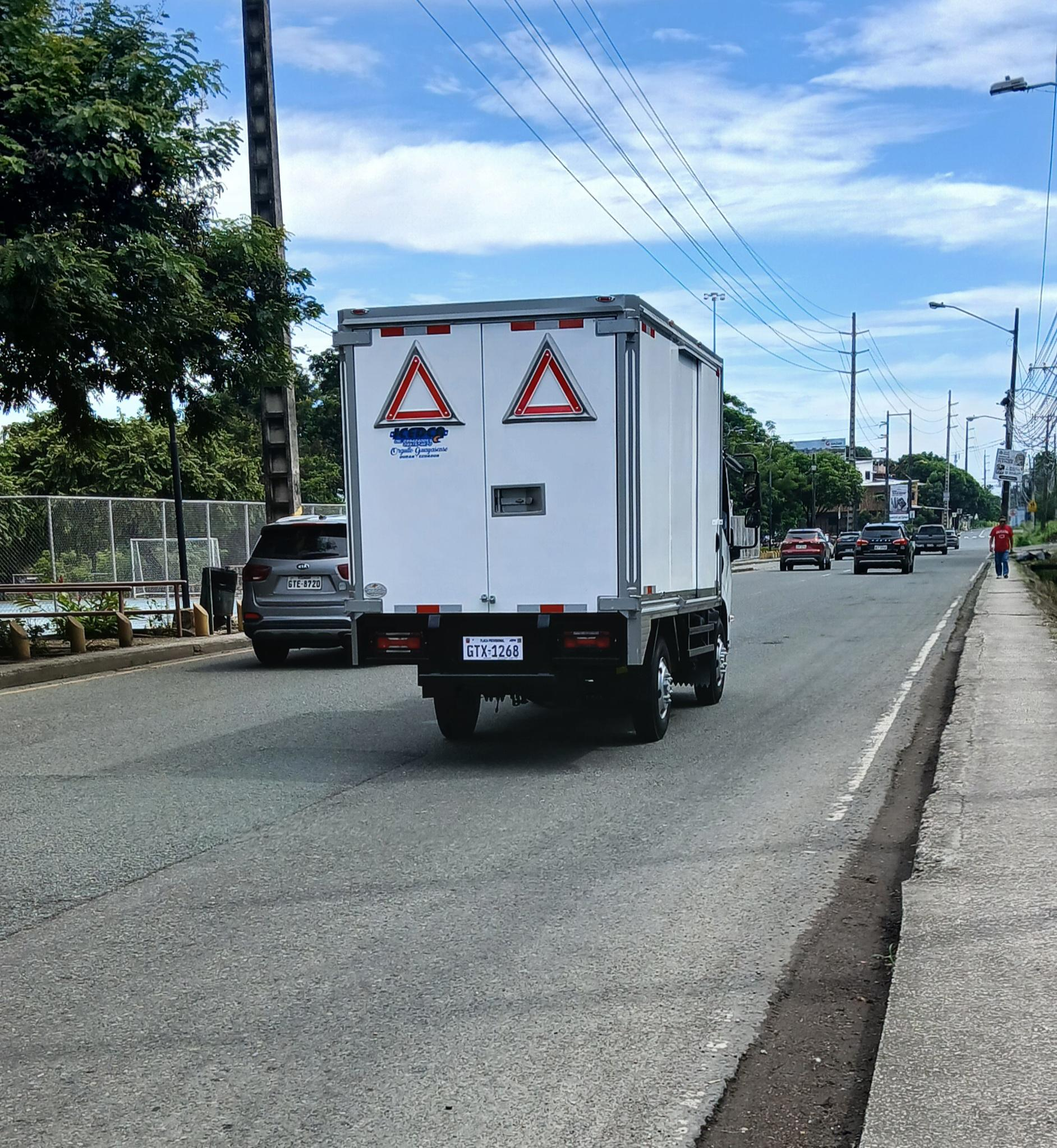license_plate: (463, 636, 524, 660), (284, 576, 321, 589), (874, 544, 887, 549), (795, 544, 807, 548)
